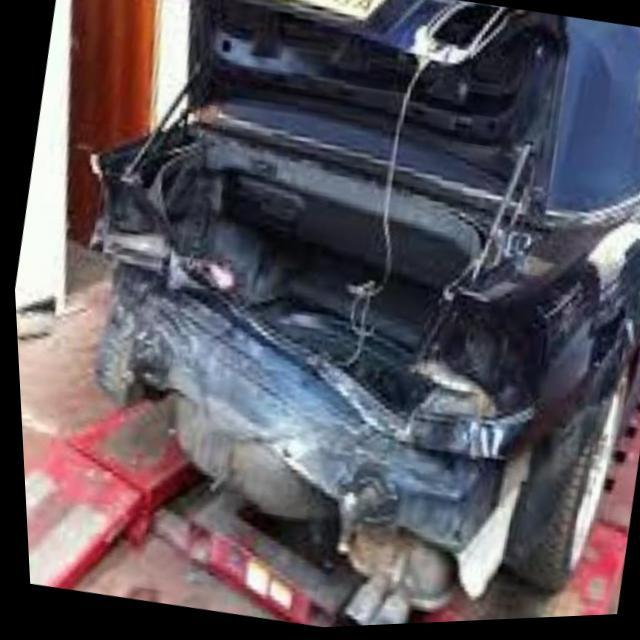no part: (84, 0, 607, 613)
